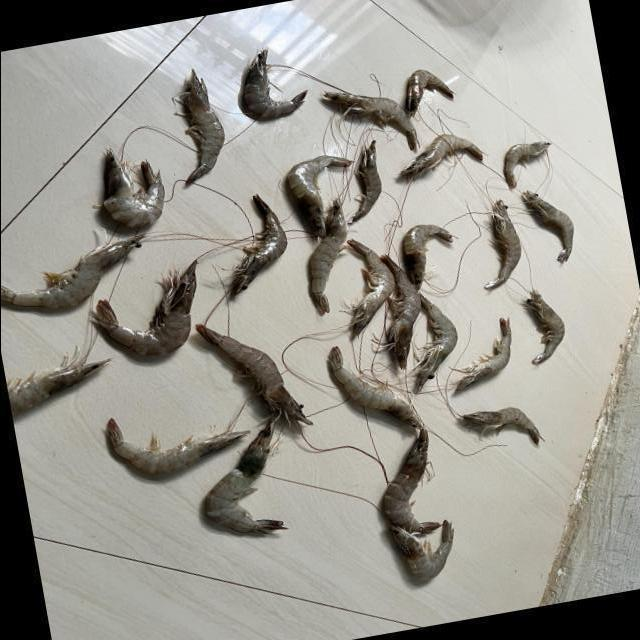shrimp: (195, 324, 313, 425), (0, 234, 145, 308), (95, 260, 197, 356), (205, 419, 287, 535), (106, 418, 250, 474), (330, 346, 423, 429), (384, 430, 441, 534), (7, 358, 112, 414), (174, 68, 224, 184), (232, 194, 287, 296), (324, 91, 419, 150), (287, 154, 353, 236), (102, 149, 164, 226), (380, 255, 421, 369), (348, 239, 396, 336), (244, 47, 307, 119), (453, 318, 512, 392), (310, 198, 348, 312), (416, 294, 458, 392), (400, 133, 484, 181), (388, 521, 454, 580), (524, 190, 575, 262), (485, 199, 522, 290), (522, 289, 566, 365), (404, 224, 454, 289), (461, 407, 544, 444), (348, 139, 382, 223), (407, 68, 455, 116), (505, 141, 552, 188)
